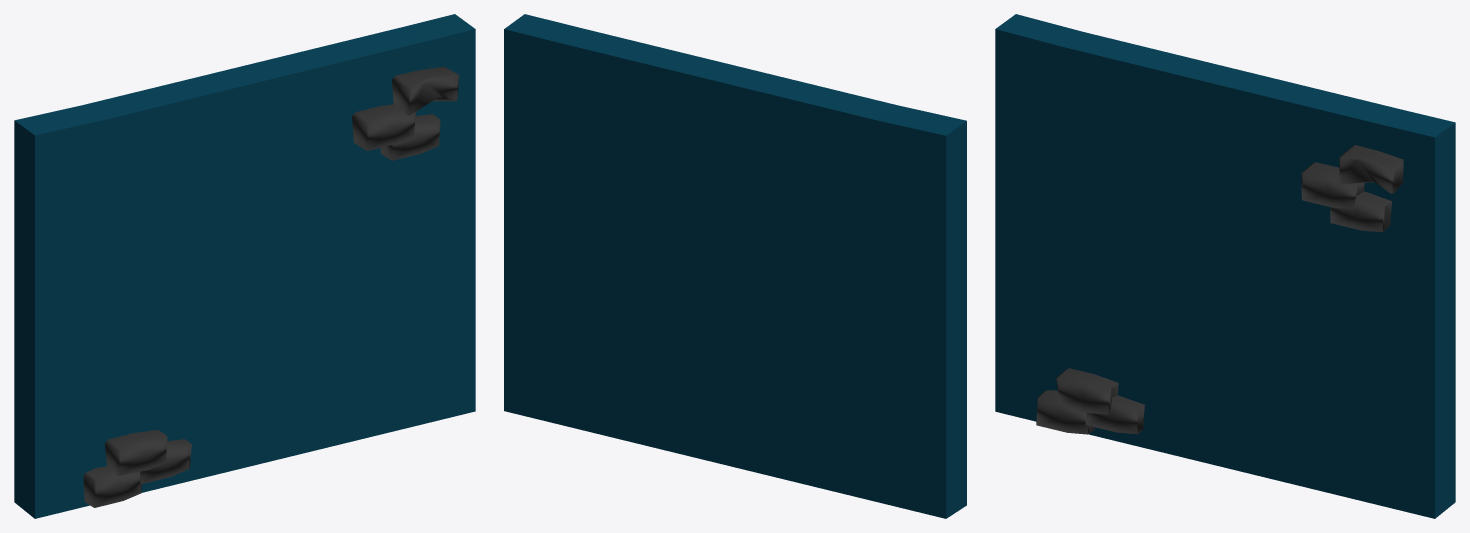
The model's file is wall 4.fbx.
3 renders of one model, left to right at view 1: azimuth 30°, elevation 25°; view 2: azimuth 150°, elevation 25°; view 3: azimuth 330°, elevation 25°, orthographic.
Visible parts, largest first — view 1: 立方体.005; view 2: 立方体.005; view 3: 立方体.005.
Part boxes in pixels (x1=…): 立方体.005: x1=14, y1=14, x2=475, y2=518; 立方体.005: x1=504, y1=14, x2=966, y2=518; 立方体.005: x1=995, y1=14, x2=1455, y2=518.
Bounding box in the file's own units: 691 × 575 × 96.73.
2 materials, 1 textured.
